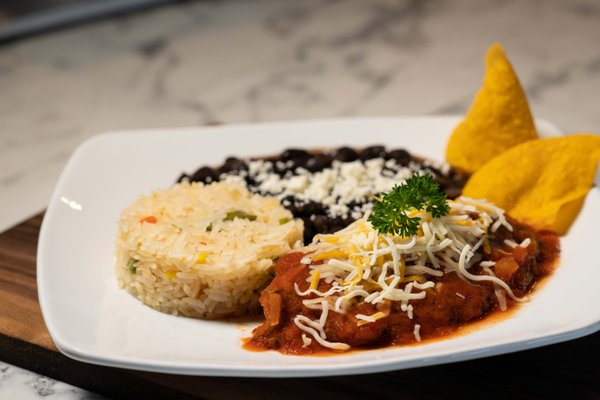curry: (367, 171, 452, 238)
